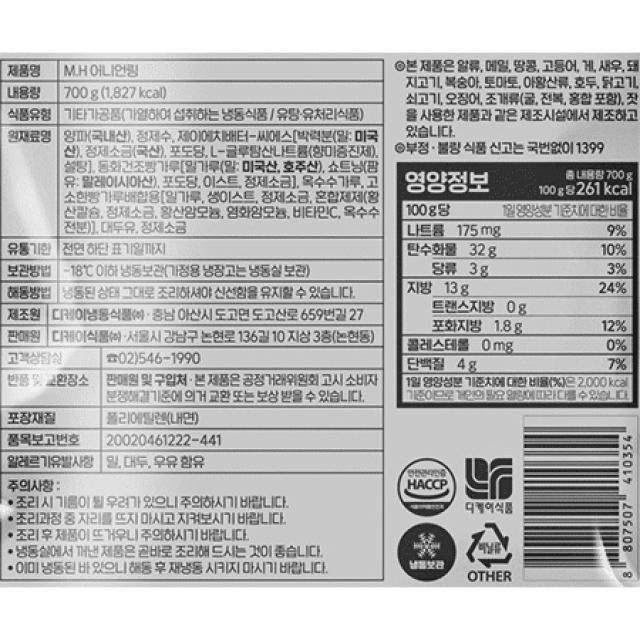Nutrition Label: (389, 153, 640, 413)
